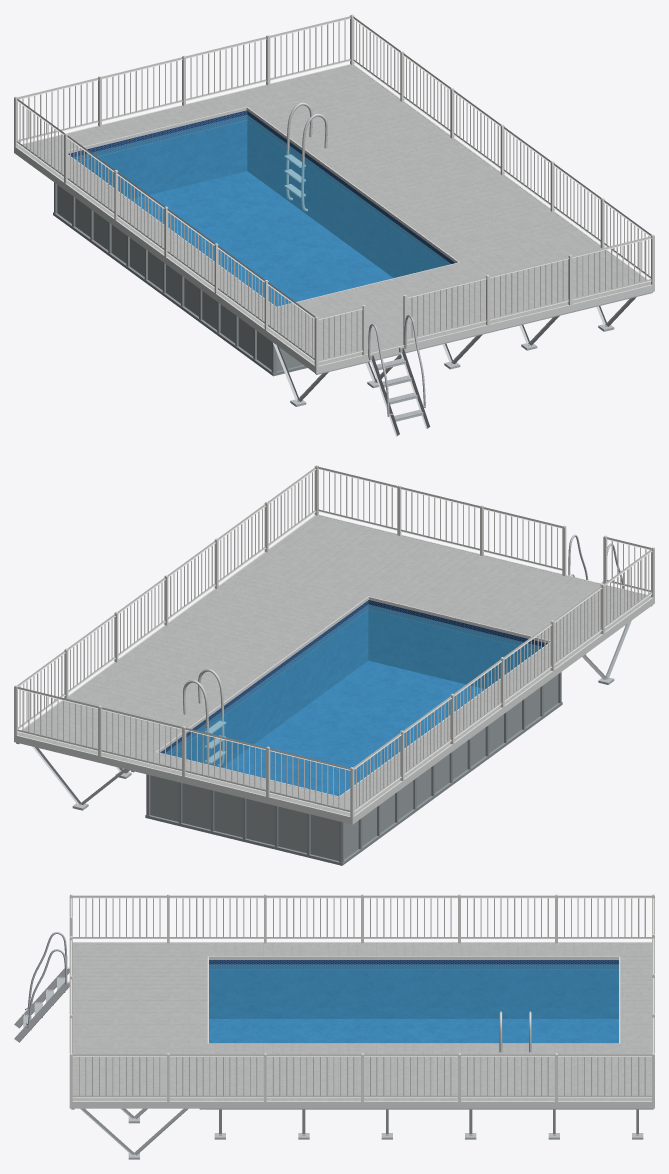
The model's file is kayak-pool-12x24-gray-endside-ag-fence.de6e141623.glb.
3 views of the same model, one above another, from view 1: azimuth 30°, elevation 25°; view 2: azimuth 150°, elevation 25°; view 3: azimuth 270°, elevation 25° (orthographic). The views are drawn at different scales.
Parts seen in each view (by area): view 1: deck, water, fence, liner_wall, liner_floor, fascia, wall, upright, stud, ladder, steel; view 2: deck, water, fence, liner_wall, liner_floor, wall, fascia, upright, stud, steel; view 3: deck, water, liner_wall, fence, liner_floor, fascia, stud, ladder.
Boxes of the visible parts, x1=… form: deck: x1=17, y1=64, x2=650, y2=365; water: x1=74, y1=115, x2=450, y2=306; fence: x1=14, y1=14, x2=654, y2=366; liner_wall: x1=68, y1=110, x2=454, y2=277; liner_floor: x1=131, y1=171, x2=392, y2=306; fascia: x1=14, y1=64, x2=654, y2=373; wall: x1=57, y1=185, x2=303, y2=371; upright: x1=53, y1=182, x2=307, y2=376; stud: x1=249, y1=292, x2=652, y2=406; ladder: x1=368, y1=315, x2=430, y2=436; steel: x1=284, y1=102, x2=327, y2=211; deck: x1=18, y1=515, x2=651, y2=816; water: x1=164, y1=604, x2=542, y2=795; fence: x1=14, y1=465, x2=654, y2=817; liner_wall: x1=160, y1=600, x2=547, y2=767; liner_floor: x1=222, y1=660, x2=483, y2=795; wall: x1=150, y1=674, x2=558, y2=860; fascia: x1=14, y1=514, x2=654, y2=824; upright: x1=145, y1=672, x2=562, y2=865; stud: x1=16, y1=605, x2=652, y2=810; steel: x1=183, y1=669, x2=226, y2=766; deck: x1=72, y1=942, x2=651, y2=1101; water: x1=209, y1=964, x2=618, y2=1043; liner_wall: x1=209, y1=960, x2=618, y2=1018; fence: x1=69, y1=894, x2=654, y2=1101; liner_floor: x1=209, y1=1019, x2=618, y2=1043; fascia: x1=69, y1=942, x2=654, y2=1108; stud: x1=71, y1=1108, x2=653, y2=1159; ladder: x1=14, y1=932, x2=69, y2=1042.
Bounding box in the file's own units: 6.71 × 2.15 × 11.35.
11 materials, 3 textured.
